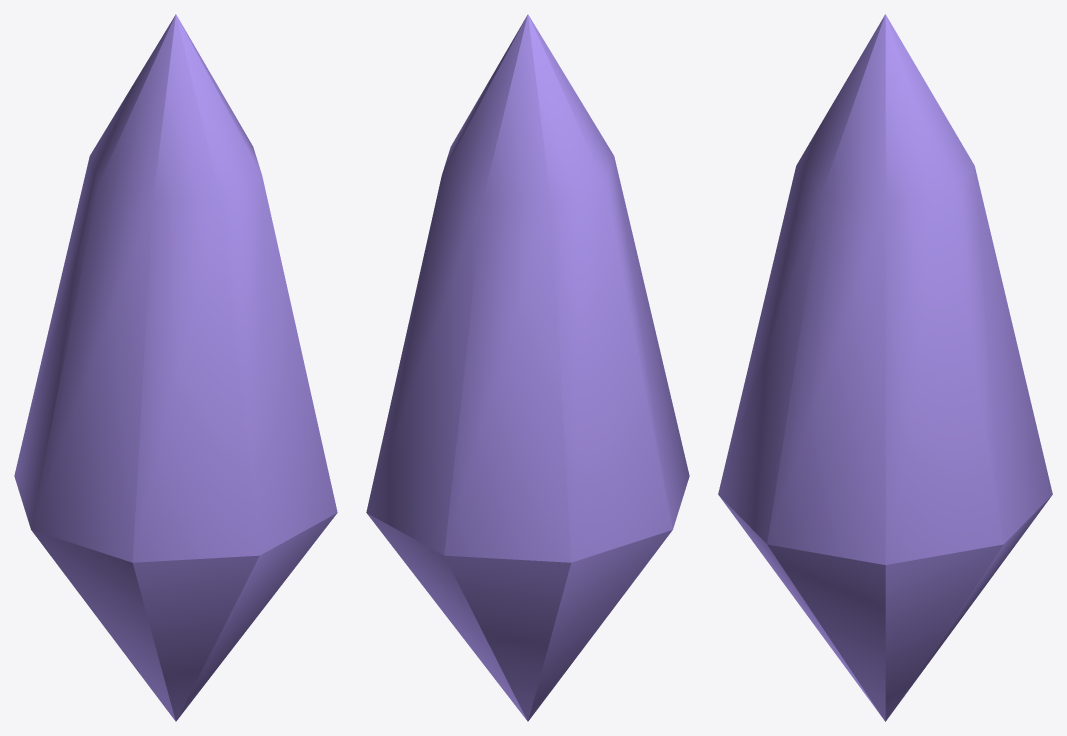
3 renders of one model, left to right at view 1: azimuth 30°, elevation 25°; view 2: azimuth 150°, elevation 25°; view 3: azimuth 270°, elevation 25°, orthographic.
Bounding box in the file's own units: 0.6 × 1.4 × 0.6.
